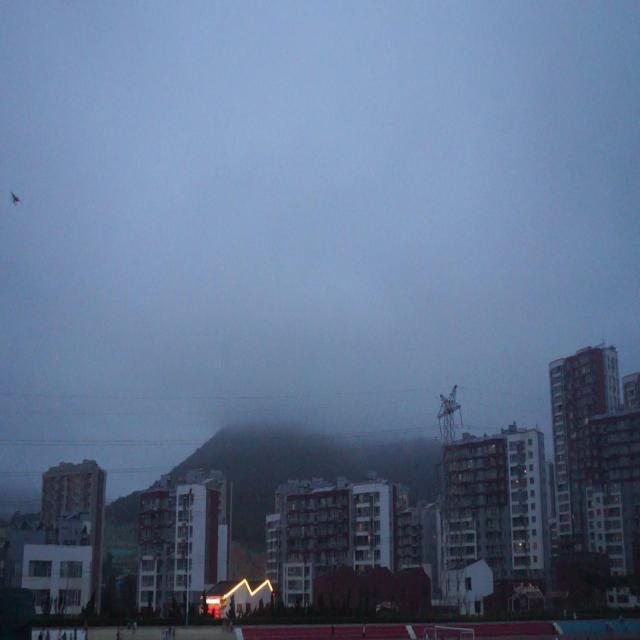drone: (10, 190, 21, 210)
